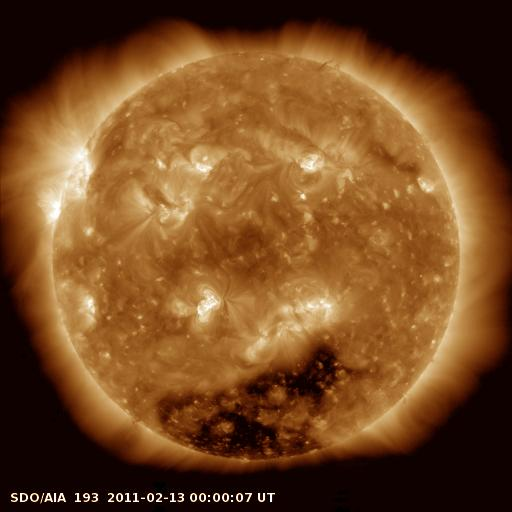coronal_hole: (157, 337, 353, 463)
